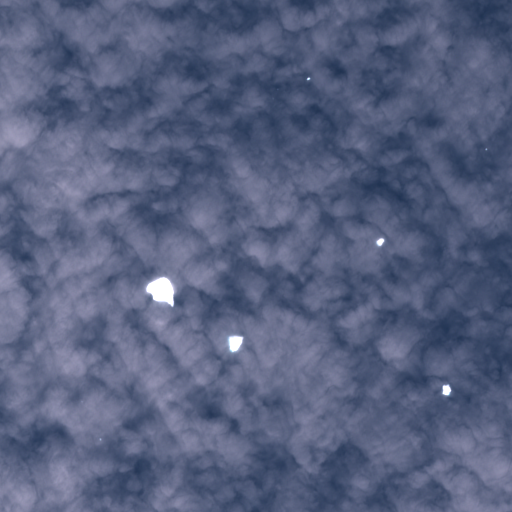Iceberg: (146, 277, 173, 306), (228, 335, 243, 351), (442, 384, 451, 395), (376, 238, 384, 246), (306, 77, 310, 80), (485, 148, 487, 150), (99, 438, 101, 440)
